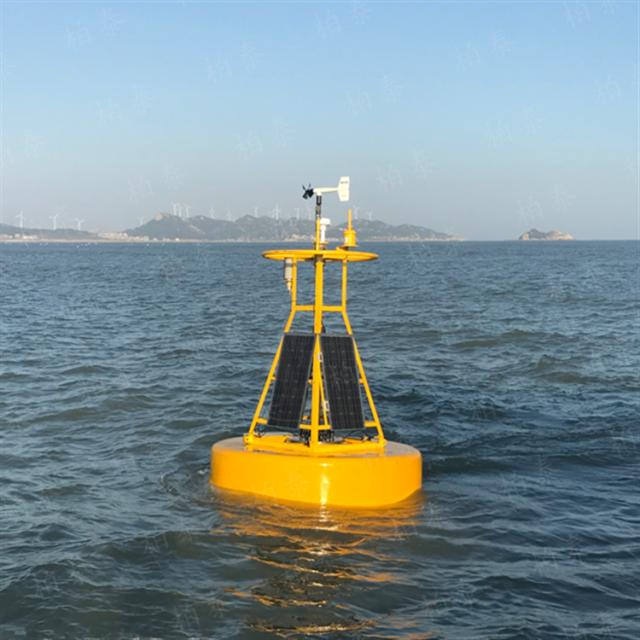buoy: (202, 176, 431, 508)
